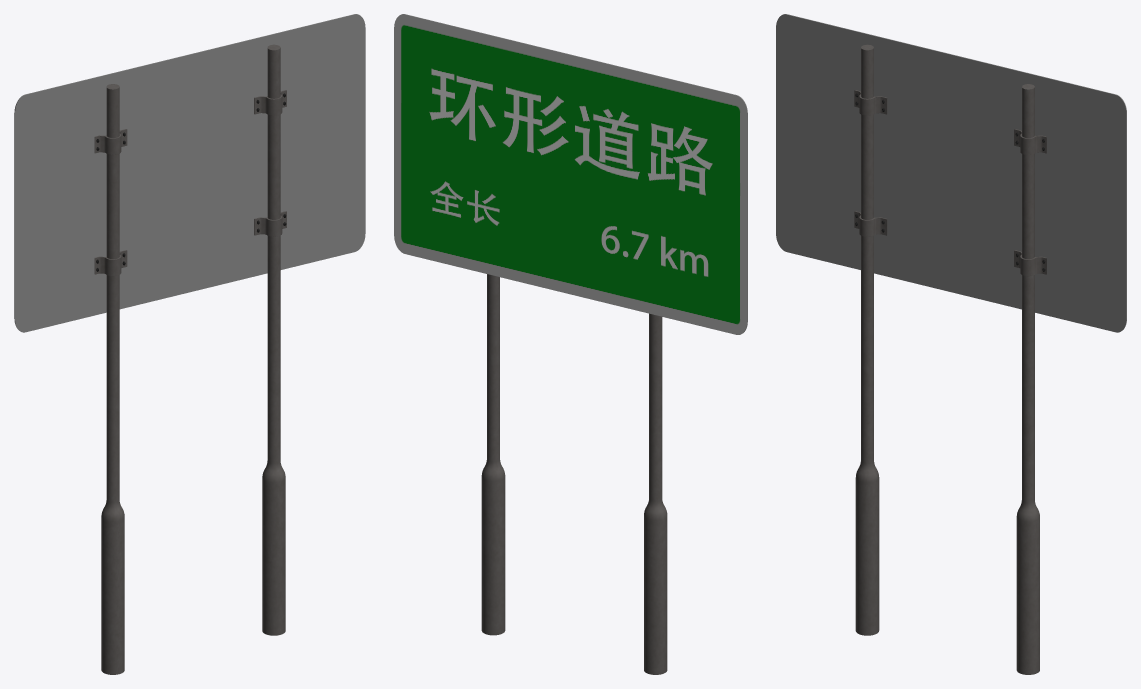
File: sign.glb
3 views of the same model, side by side, from view 1: azimuth 30°, elevation 25°; view 2: azimuth 150°, elevation 25°; view 3: azimuth 330°, elevation 25° (orthographic).
Visible parts, largest first — view 1: Rectangular BillBord; view 2: Rectangular BillBord; view 3: Rectangular BillBord.
Boxes of the visible parts, box(x1,y1,x2,y2) form: Rectangular BillBord: box(14, 14, 365, 674); Rectangular BillBord: box(394, 14, 747, 674); Rectangular BillBord: box(776, 14, 1126, 674).
Size of the model in its own units: 2.6 by 4.21 by 0.1509.
Materials: 1 (1 with a texture image).
